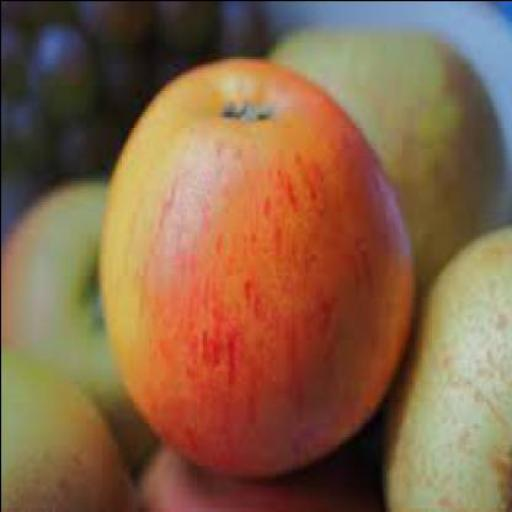biodegradable: (105, 53, 417, 475), (268, 24, 502, 286), (2, 176, 156, 470), (383, 219, 511, 512), (2, 340, 135, 509), (135, 440, 383, 510), (31, 24, 99, 124), (54, 103, 122, 179), (2, 106, 53, 180), (79, 1, 155, 46), (209, 1, 270, 53), (154, 0, 214, 50)
